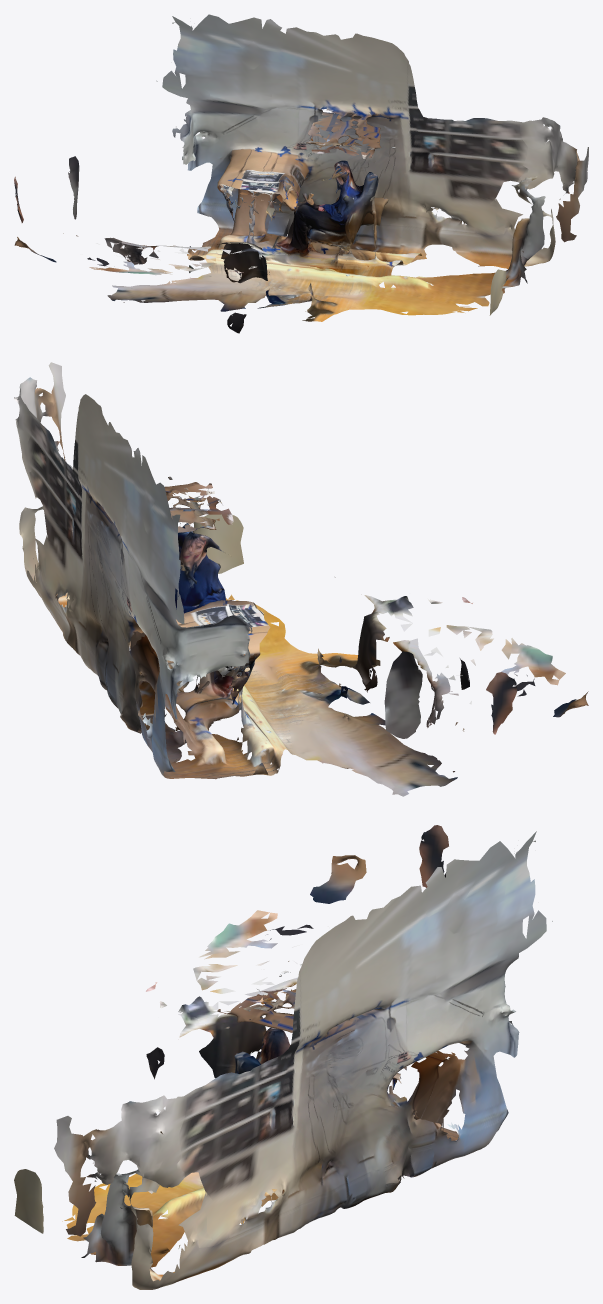
The model's file is Modelar-2022-Dec-16.obj.
3 renders of one model, top to bottom at view 1: azimuth 30°, elevation 25°; view 2: azimuth 150°, elevation 25°; view 3: azimuth 270°, elevation 25°, orthographic. The views are drawn at different scales.
Visible parts, largest first — view 1: object 1, _1; view 2: object 1, _1; view 3: object 1, _1.
Boxes of the visible parts, x1,y1,x2,y2 form: object 1: (14,14,588,321); _1: (14,22,564,333); object 1: (14,362,535,779); _1: (16,420,588,796); object 1: (14,825,546,1289); _1: (62,840,552,1289).
Size of the model in its own units: 6.03 by 2.62 by 4.37.
Materials: 2 (2 with a texture image).
